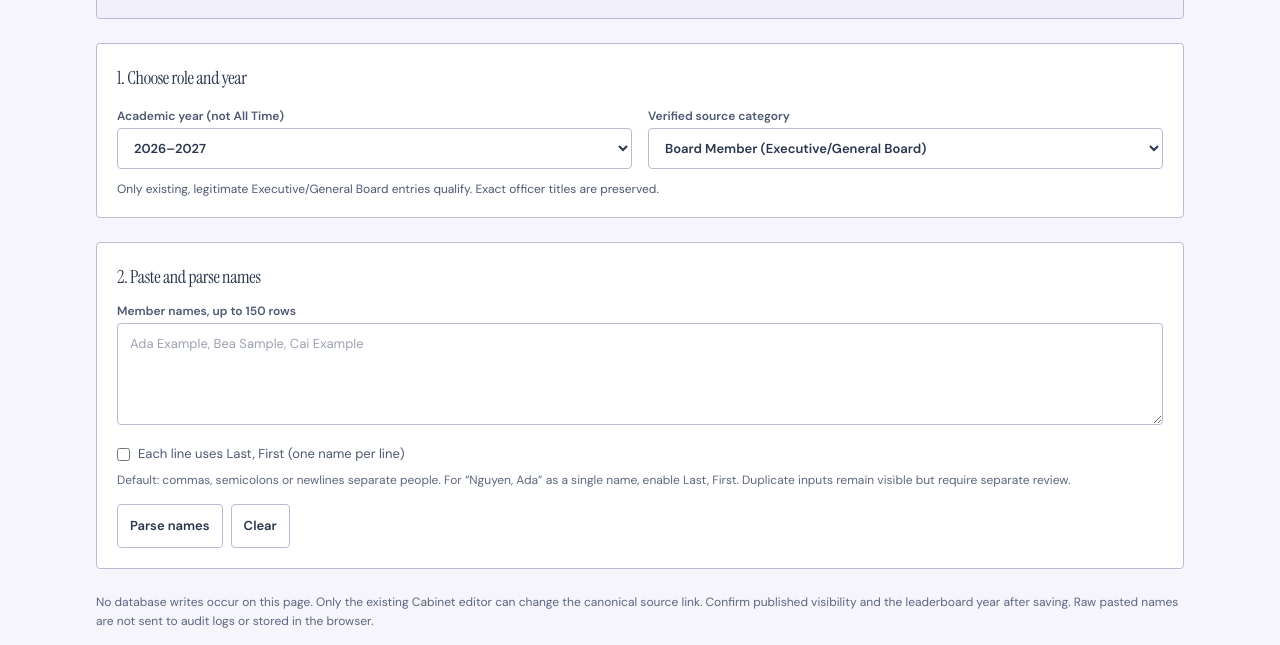
Test: registers a labelled admin-only role review and parses three independent names
(page scrolled)
Type "Ada Example, Bea Sample, Cora Example" into the text box labelled "Member names, up to 150 rows" at (640, 374), box [117,323,1163,425]
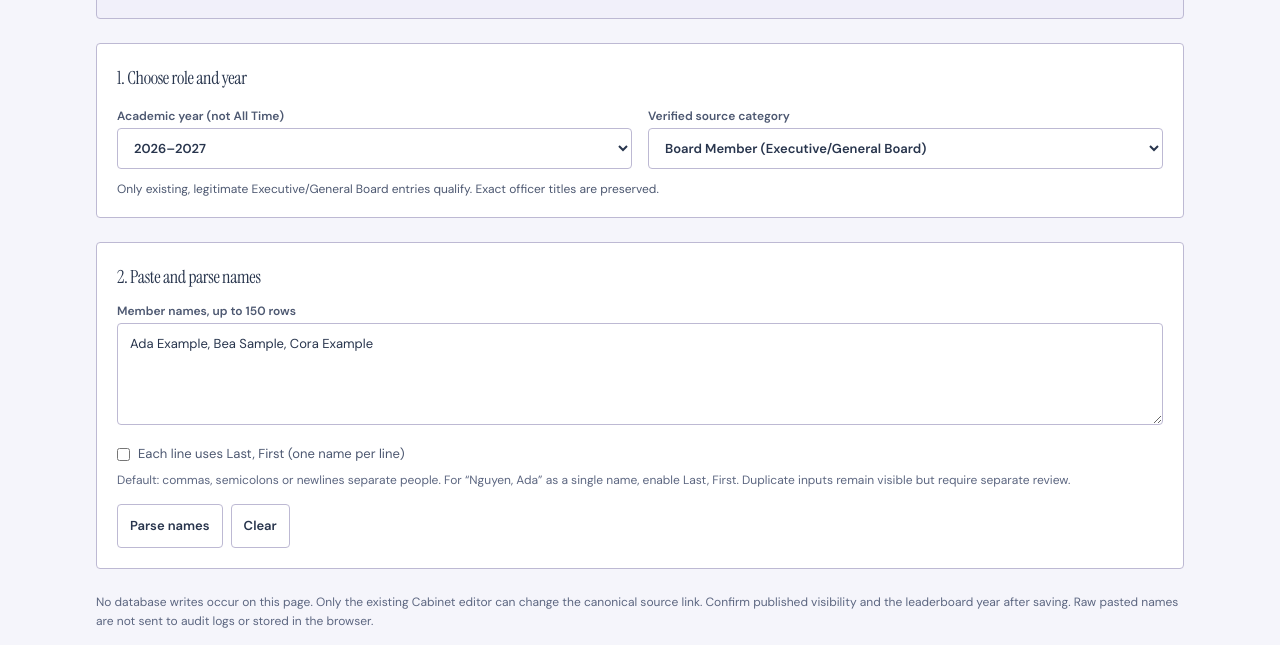
Click the button "Parse names" at (170, 526), box [117,504,223,548]
(page scrolled)
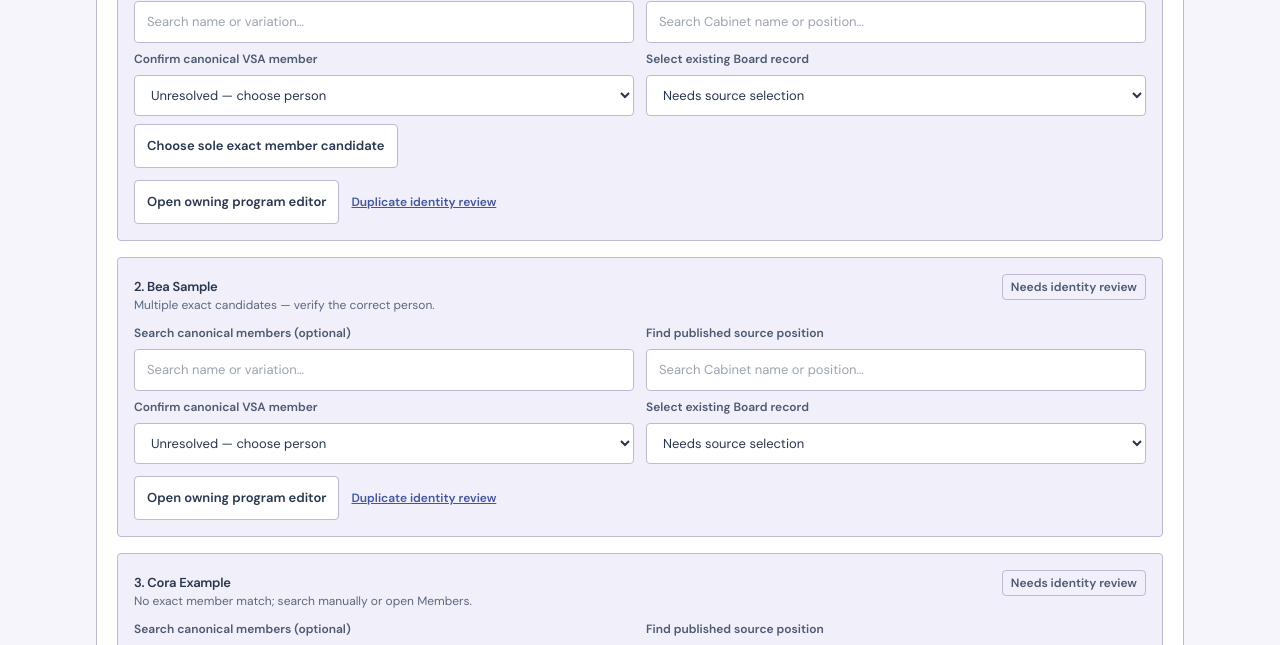
Check: the heading "2. Bea Sample" is shown, box [134,278,218,295]
Check: the heading "3. Cora Example" is shown, box [134,574,231,591]
Check: the text "Multiple exact candidates — verify the correct person." is shown, box [134,297,435,313]
